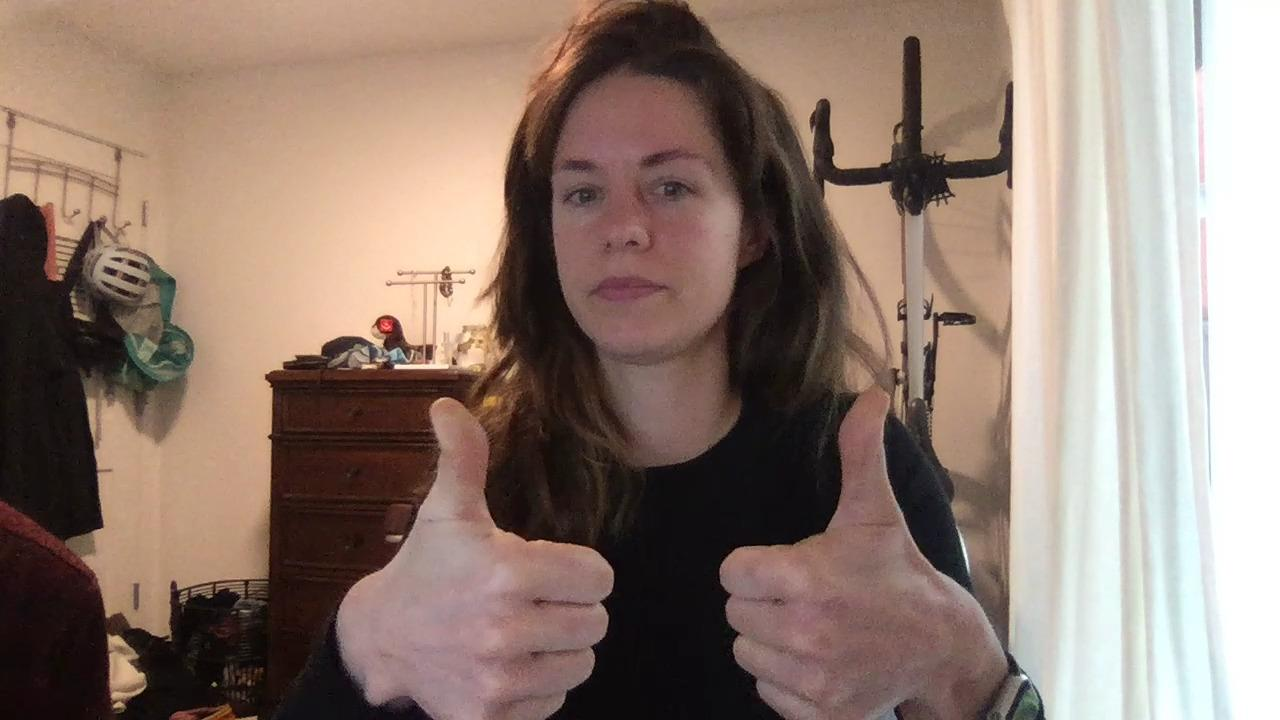face: (550, 110, 741, 365)
